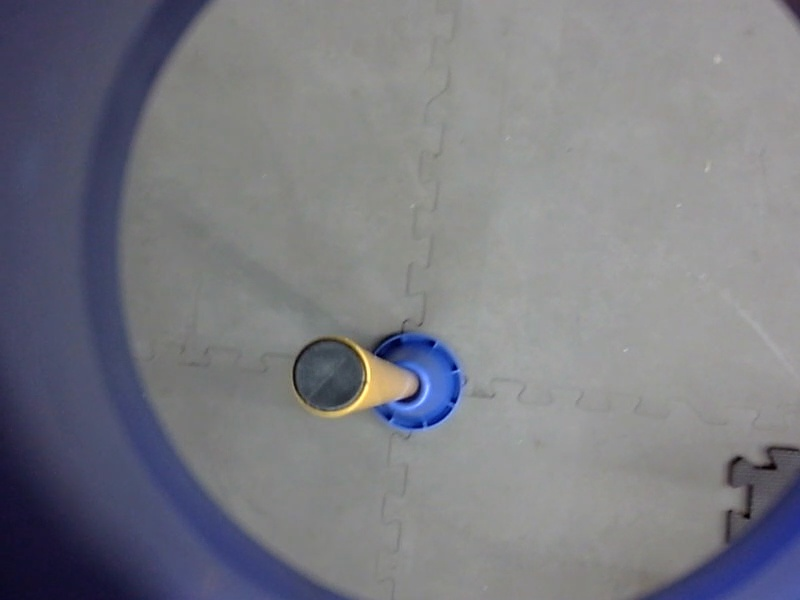tip: (283, 328, 377, 422)
